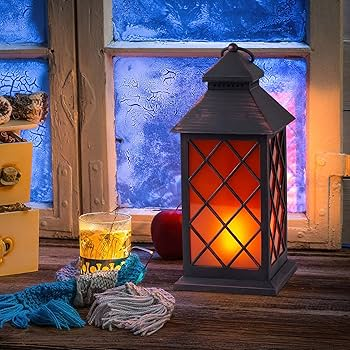Open-Flame-Hazard: (164, 34, 303, 299), (74, 200, 141, 275)
